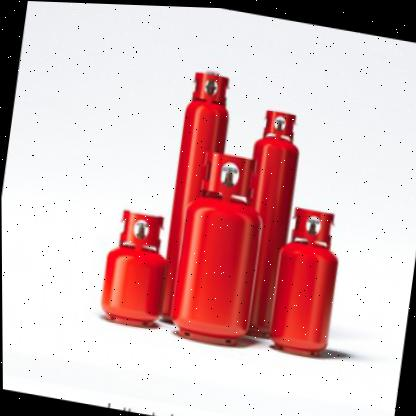gas-tank: (157, 131, 280, 367), (249, 188, 362, 370), (82, 185, 186, 341)
